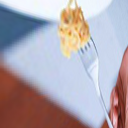Fork: (56, 4, 126, 123)
